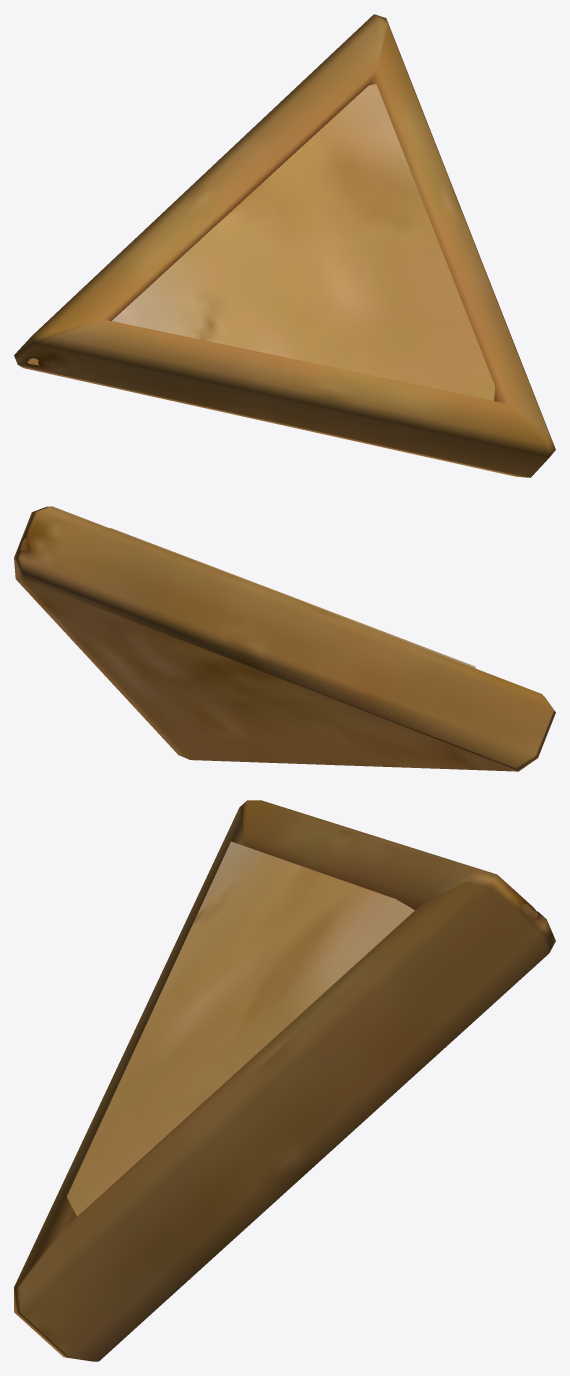
3 renders of one model, top to bottom at view 1: azimuth 30°, elevation 25°; view 2: azimuth 150°, elevation 25°; view 3: azimuth 270°, elevation 25°, orthographic. The views are drawn at different scales.
Parts seen in each view (by area): view 1: SM_Vault_Mirror_Button_Plinth_Arrow_Left_LOD0; view 2: SM_Vault_Mirror_Button_Plinth_Arrow_Left_LOD0; view 3: SM_Vault_Mirror_Button_Plinth_Arrow_Left_LOD0.
Boxes of the visible parts, <box> form: SM_Vault_Mirror_Button_Plinth_Arrow_Left_LOD0: <box>14,14,555,477</box>; SM_Vault_Mirror_Button_Plinth_Arrow_Left_LOD0: <box>14,506,555,771</box>; SM_Vault_Mirror_Button_Plinth_Arrow_Left_LOD0: <box>14,800,555,1361</box>.
Bounding box in the file's own units: 0.2 × 0.1548 × 0.1551.
Materials: 2 (2 with a texture image).
